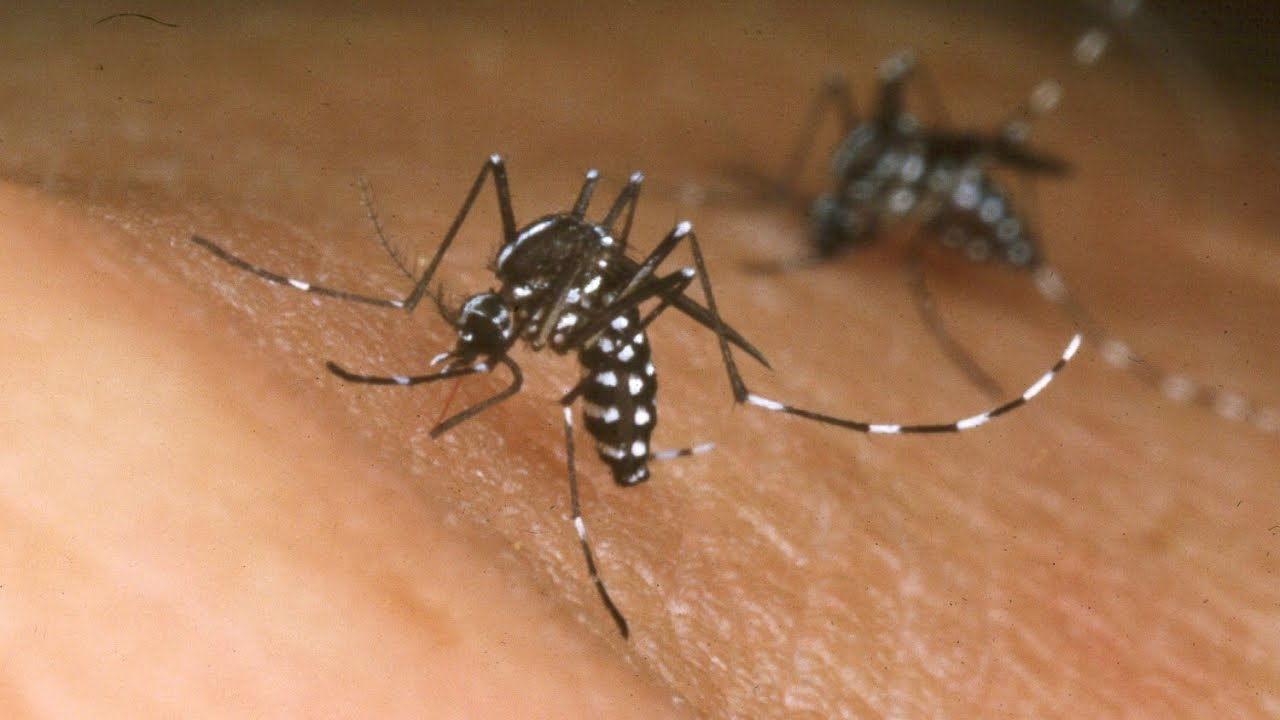dengue_mosquito: (269, 154, 866, 549)
